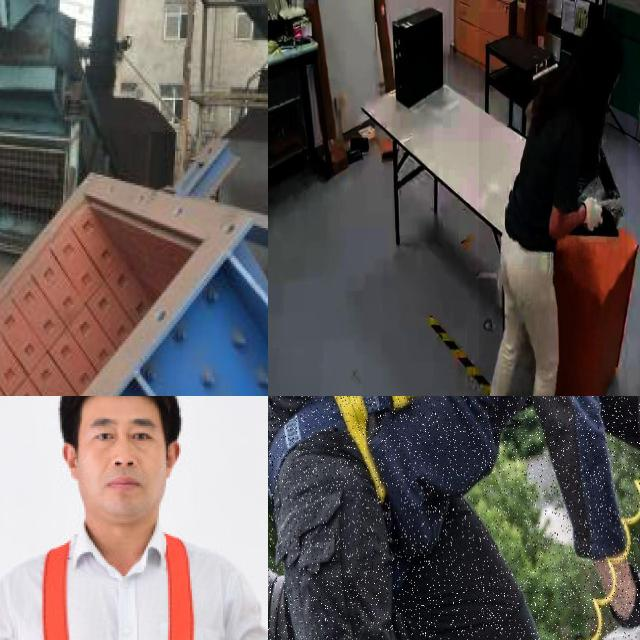Harness: (7, 524, 233, 640)
No_Glasses: (85, 417, 166, 454)
hand_glove: (580, 190, 606, 242)
head_nohelmet: (587, 13, 623, 55)
person: (479, 12, 628, 396)
